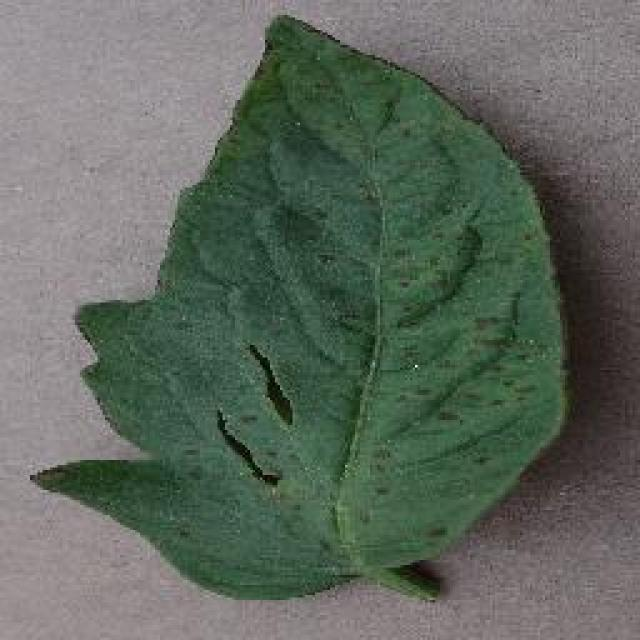Tom_Bacterial_spot: (355, 316, 559, 519), (318, 134, 526, 301), (212, 336, 310, 514)
